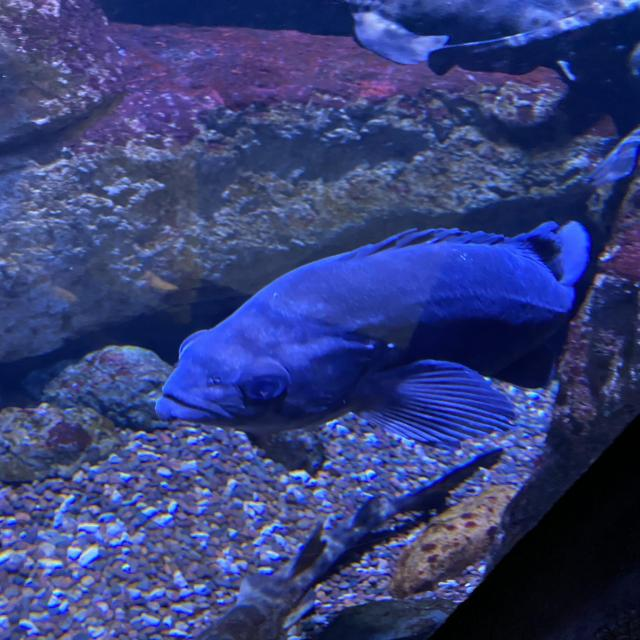fish: (156, 221, 589, 452)
shark: (181, 448, 501, 640), (347, 0, 640, 82)
